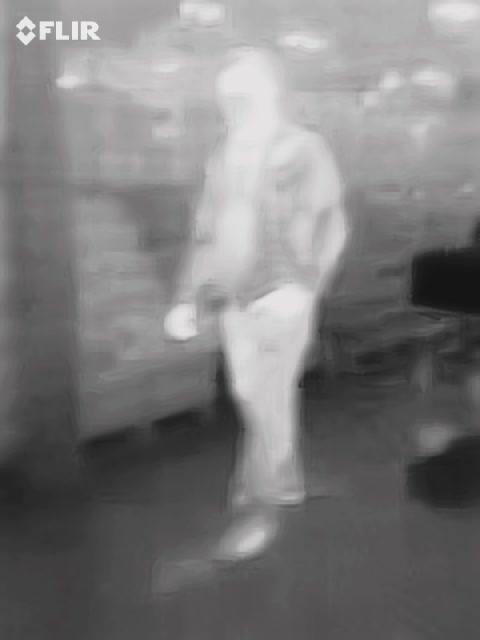head: (214, 44, 285, 131)
